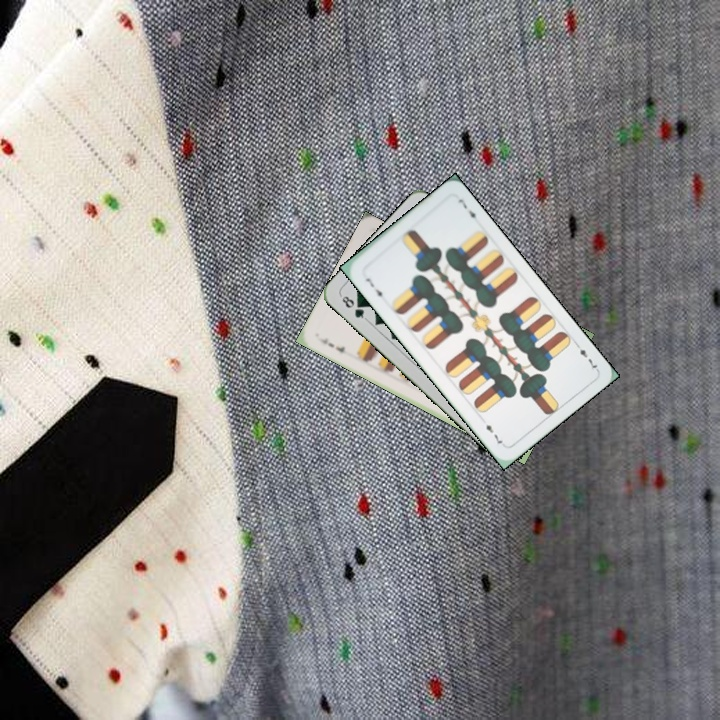E7: (571, 338, 601, 374), (315, 333, 348, 355), (361, 274, 386, 303)
G8: (337, 291, 370, 323)
